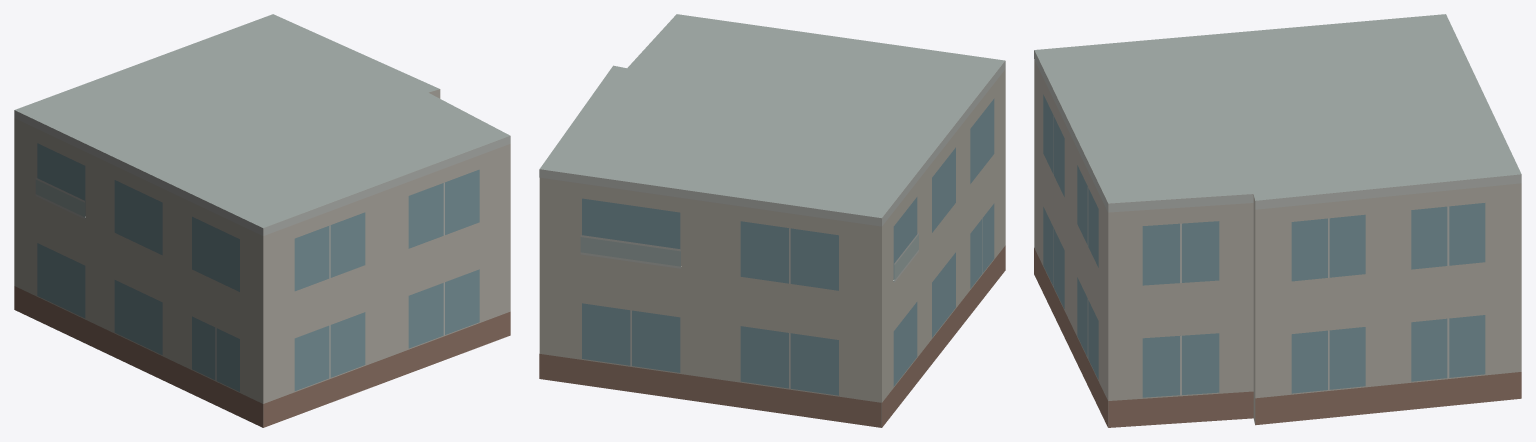
The model's file is survey-upis-32619849.glb.
3 renders of one model, left to right at view 1: azimuth 30°, elevation 25°; view 2: azimuth 150°, elevation 25°; view 3: azimuth 270°, elevation 25°, orthographic. The views are drawn at different scales.
Visible parts, largest first — view 1: survey-upis-32619849.tmp; view 2: survey-upis-32619849.tmp; view 3: survey-upis-32619849.tmp.
Part boxes in pixels (bbox=[...]): survey-upis-32619849.tmp: bbox=[14, 14, 510, 427]; survey-upis-32619849.tmp: bbox=[539, 14, 1005, 427]; survey-upis-32619849.tmp: bbox=[1034, 14, 1521, 427].
Bounding box in the file's own units: 11.07 × 6.1 × 12.03.
